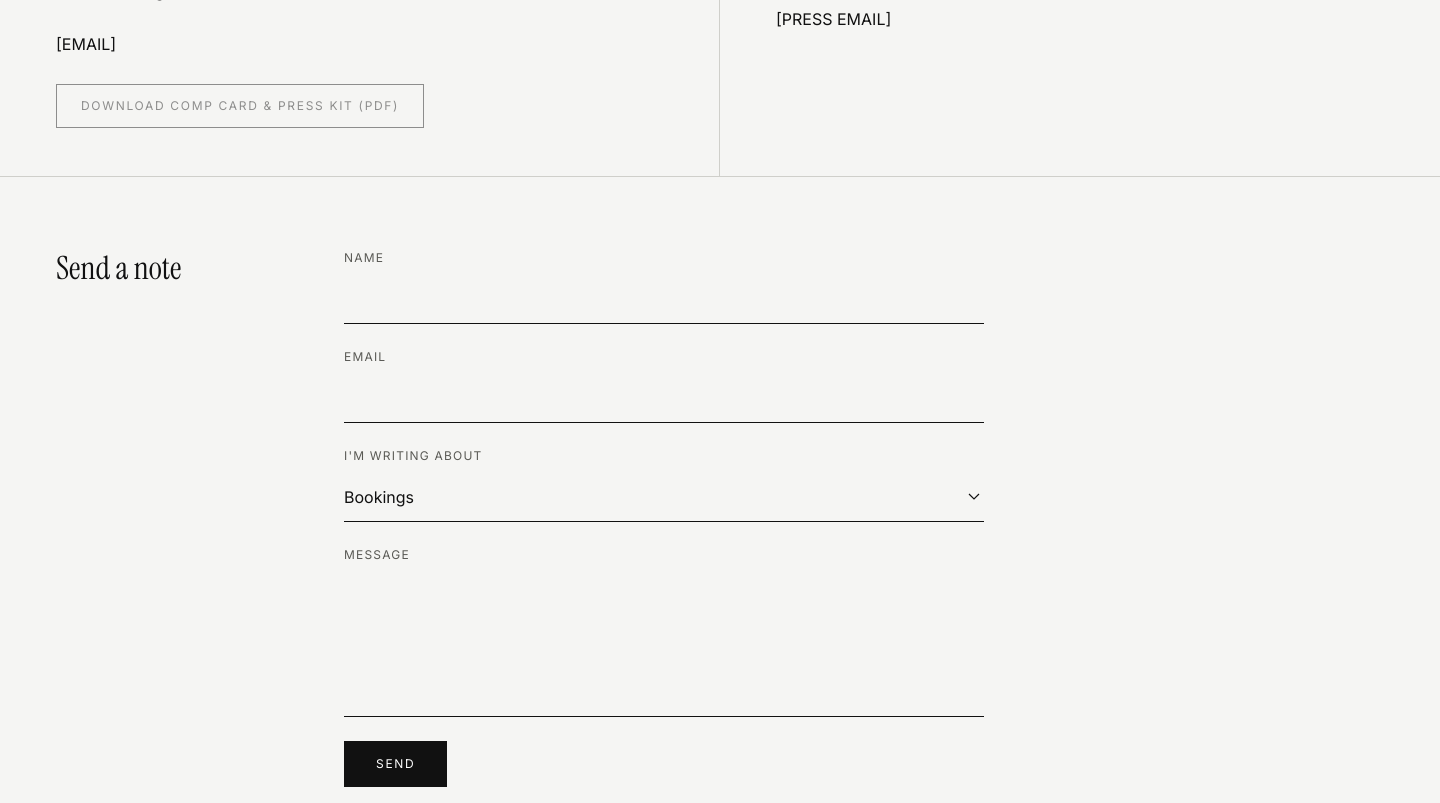
Test: contact form › shows errors, keeps typed values and focuses the first invalid field
(page scrolled)
Step 1. Type "not-an-email" into the field labelled "Email" → x=664, y=398, box top-left (344, 374), bottom-right (984, 423)
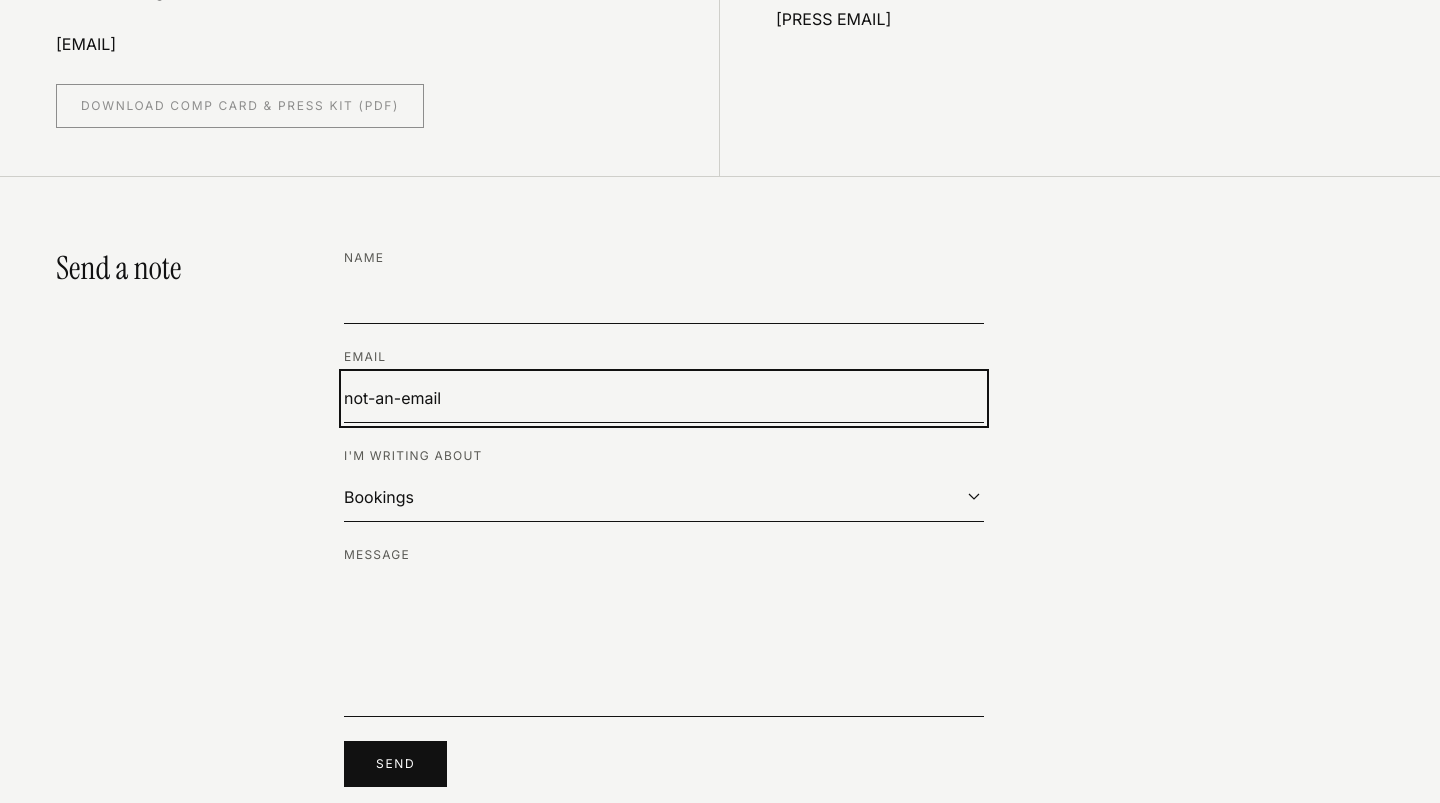
Step 2. Click the button "Send" → x=396, y=764, box top-left (344, 741), bottom-right (447, 787)
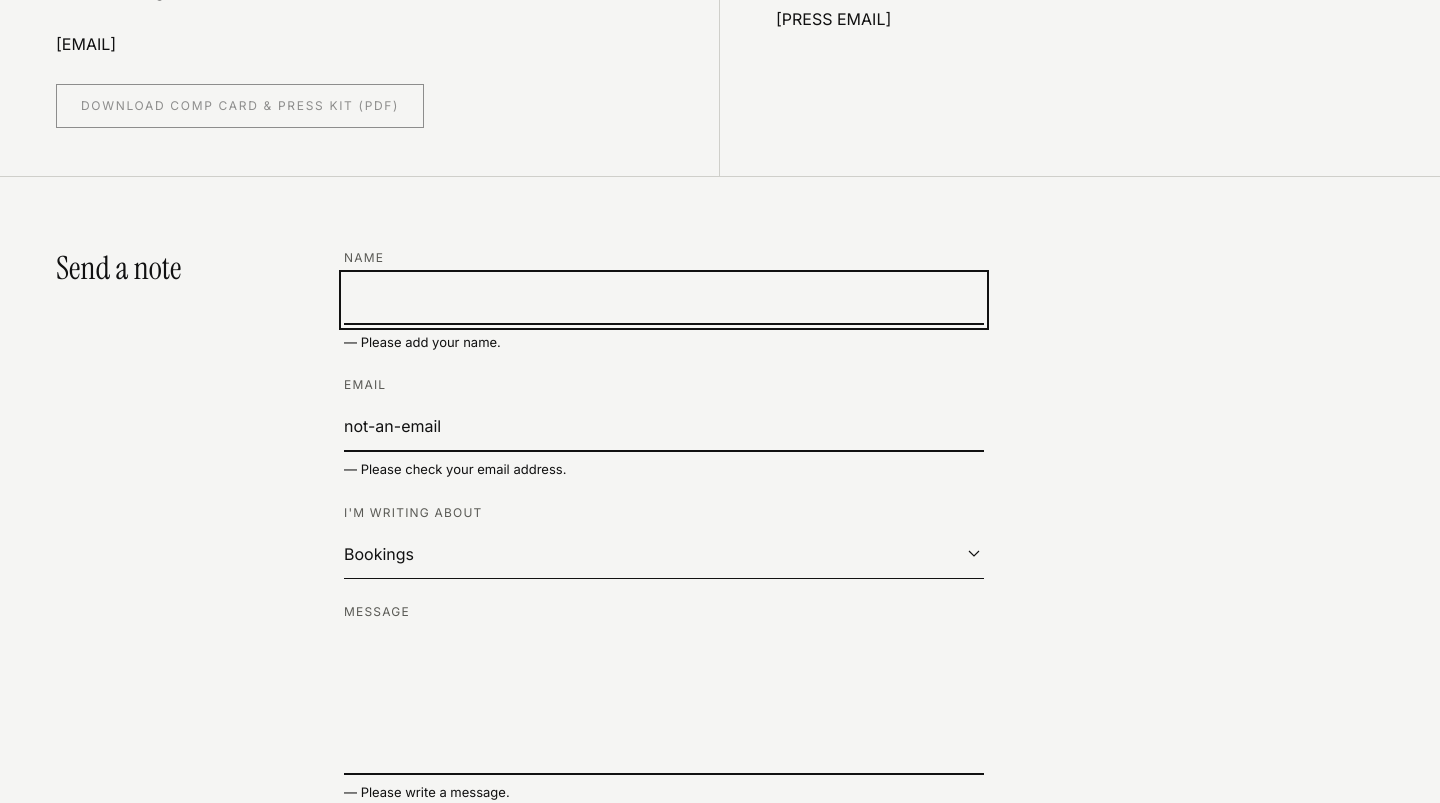
Expected: the text "Please add your name." is shown, top-left (361, 334), bottom-right (501, 350)
Expected: the text "Please check your email address." is shown, top-left (361, 461), bottom-right (566, 477)
Expected: the text "Please write a message." is shown, top-left (361, 784), bottom-right (510, 800)
